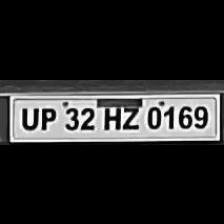0: (144, 100, 164, 128)
1: (161, 101, 177, 128)
2: (76, 102, 96, 131)
3: (60, 101, 78, 129)
6: (174, 101, 192, 127)
9: (190, 101, 210, 128)
H: (99, 98, 121, 130)
P: (36, 103, 58, 129)
U: (17, 101, 39, 129)
Z: (118, 98, 140, 130)
